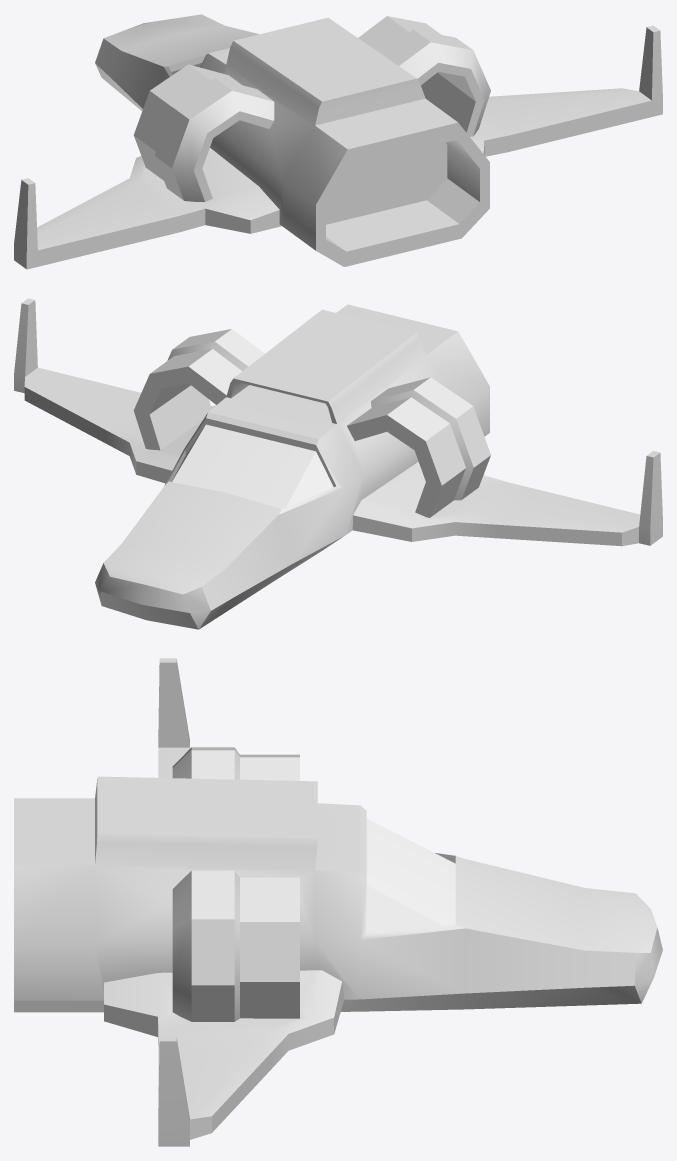
The picture shows the model from 3 angles, top to bottom: view 1: azimuth 30°, elevation 25°; view 2: azimuth 150°, elevation 25°; view 3: azimuth 270°, elevation 25°; orthographic projection. The views are drawn at different scales.
Visible parts, largest first — view 1: Body; view 2: Body; view 3: Body.
Boxes of the visible parts, <box> form: Body: <box>14,14,662,269</box>; Body: <box>14,298,662,629</box>; Body: <box>14,658,662,1146</box>.
Bounding box in the file's own units: 16 × 3.34 × 11.39.
2 materials, 1 textured.
